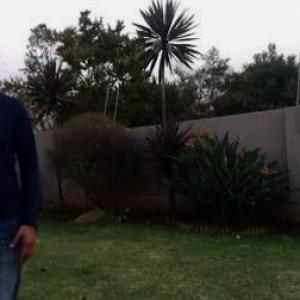follow: (1, 50, 32, 299)
